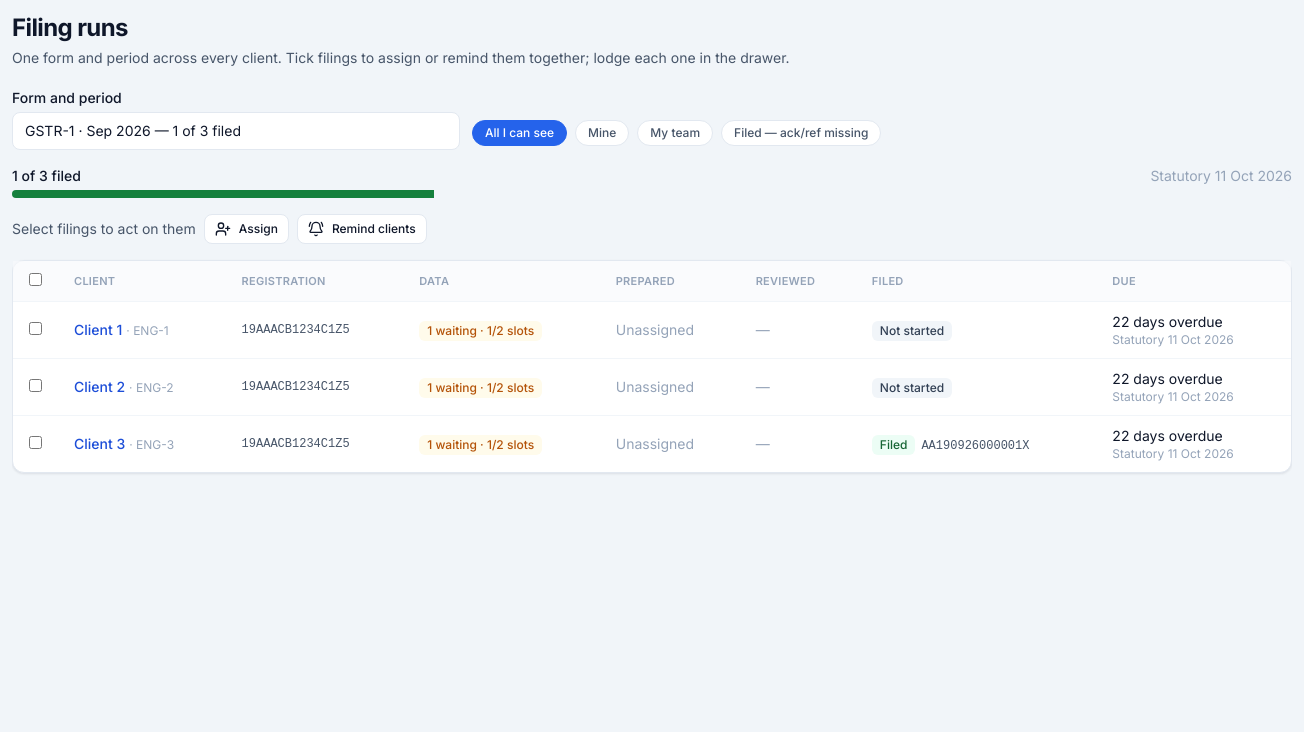
Test: Filing runs page › reminds the selected filings and lists the ones that failed
expect the link "Client 1" is shown: met, box [74, 321, 122, 338]
Click the checkbox named "Select every filing" at point(36, 280), box [29, 273, 42, 286]
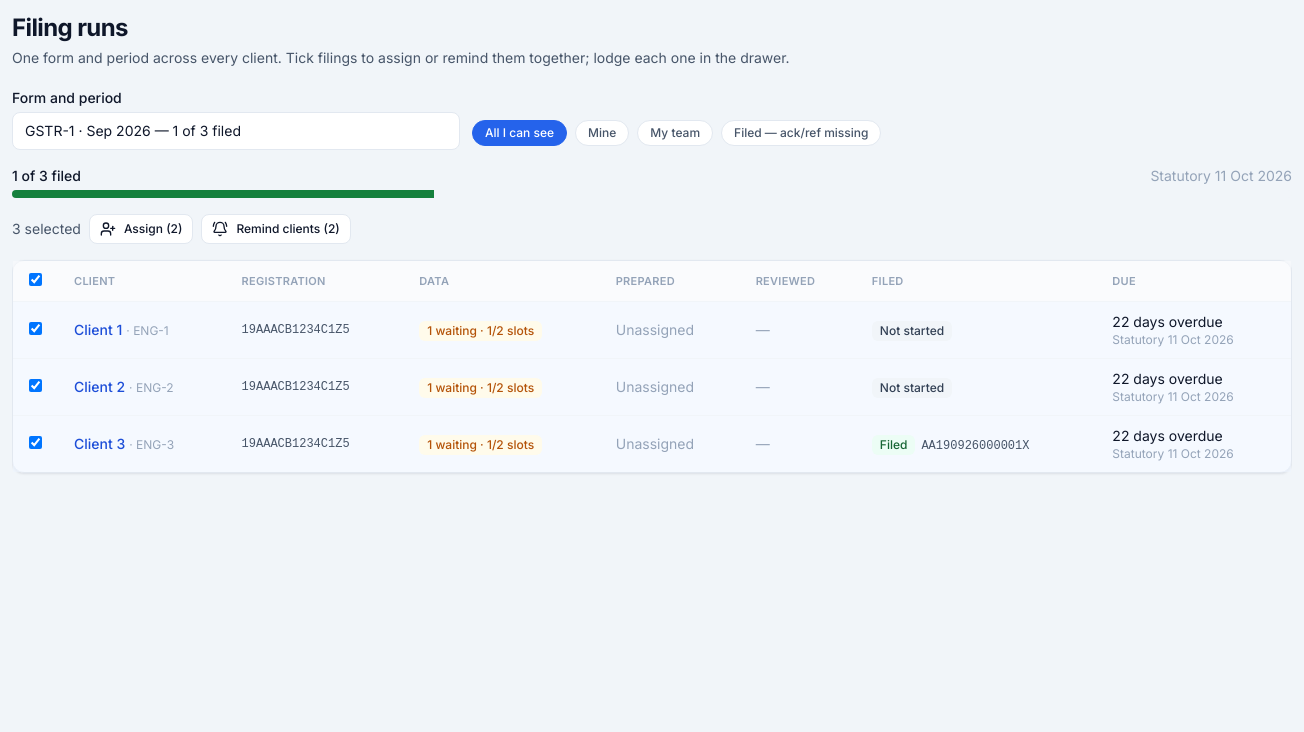
Click the button "Remind clients (2)" at point(276, 229), box [201, 214, 351, 244]
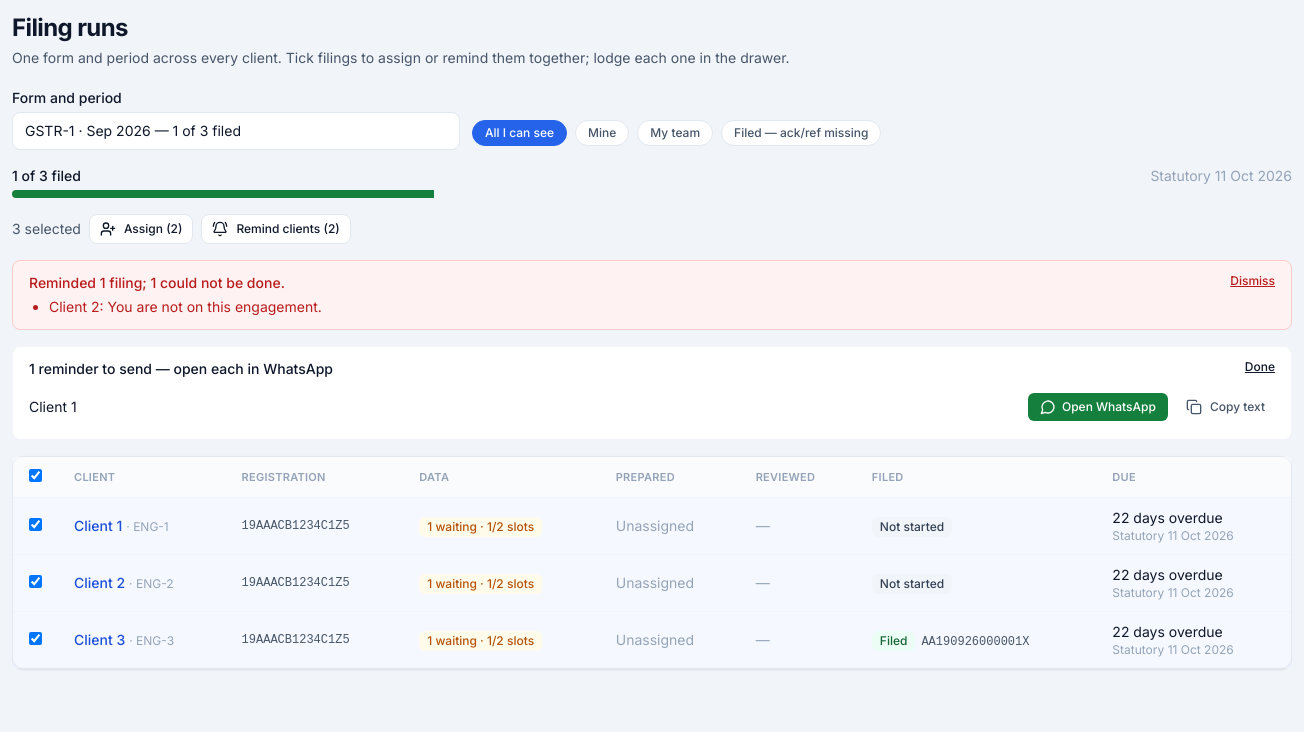
expect the list item "Client 2: You are not on this engagement." is shown: met, box [49, 298, 322, 315]
expect the button with aria-label "Copy text for Client 1" is shown: met, box [1176, 393, 1275, 421]
